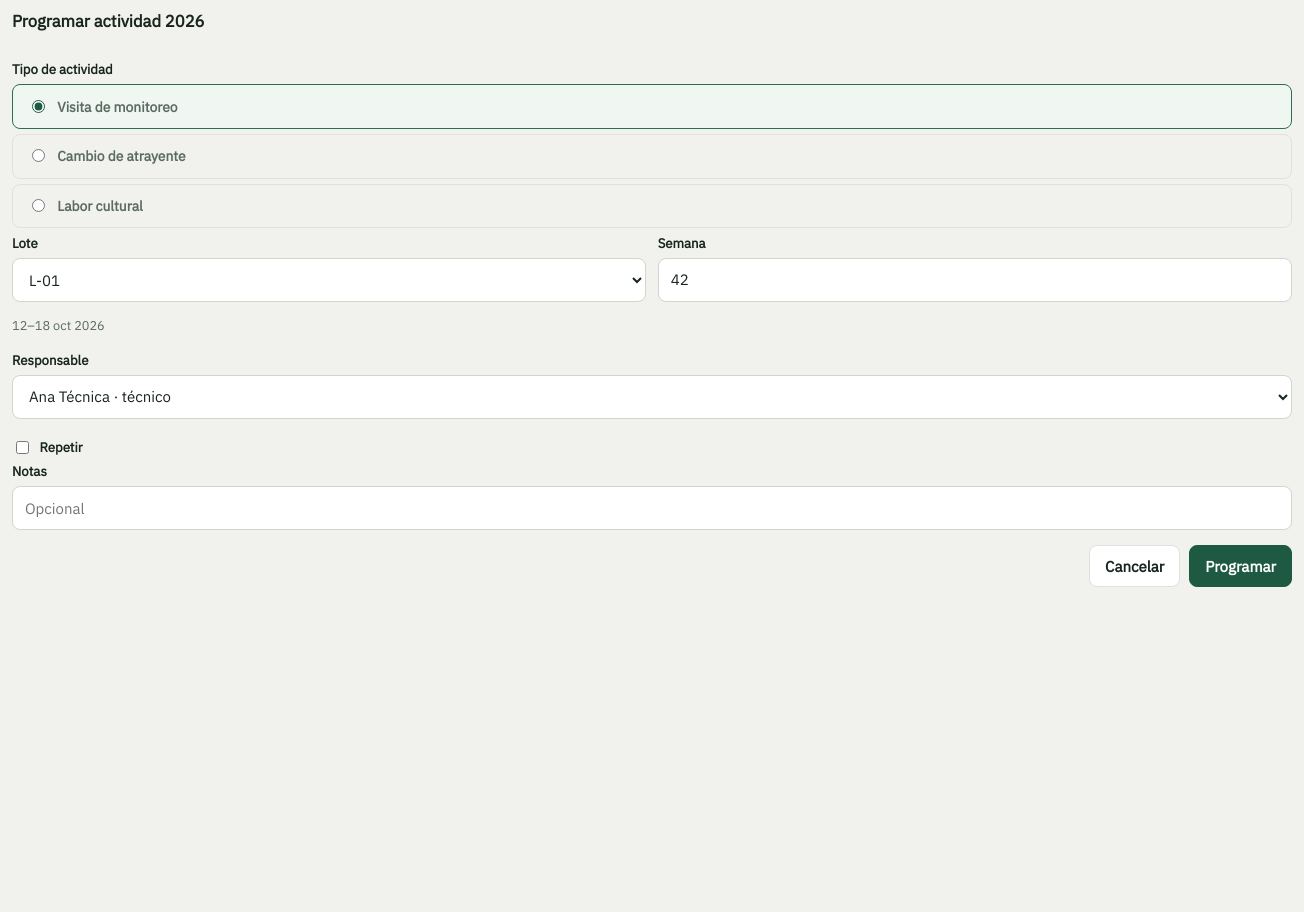
FormularioActividad › muestra el error de la API
The width and height of the screenshot is (1304, 912).
Click the button "Programar": {"x": 1241, "y": 566} [1189,545,1292,587]
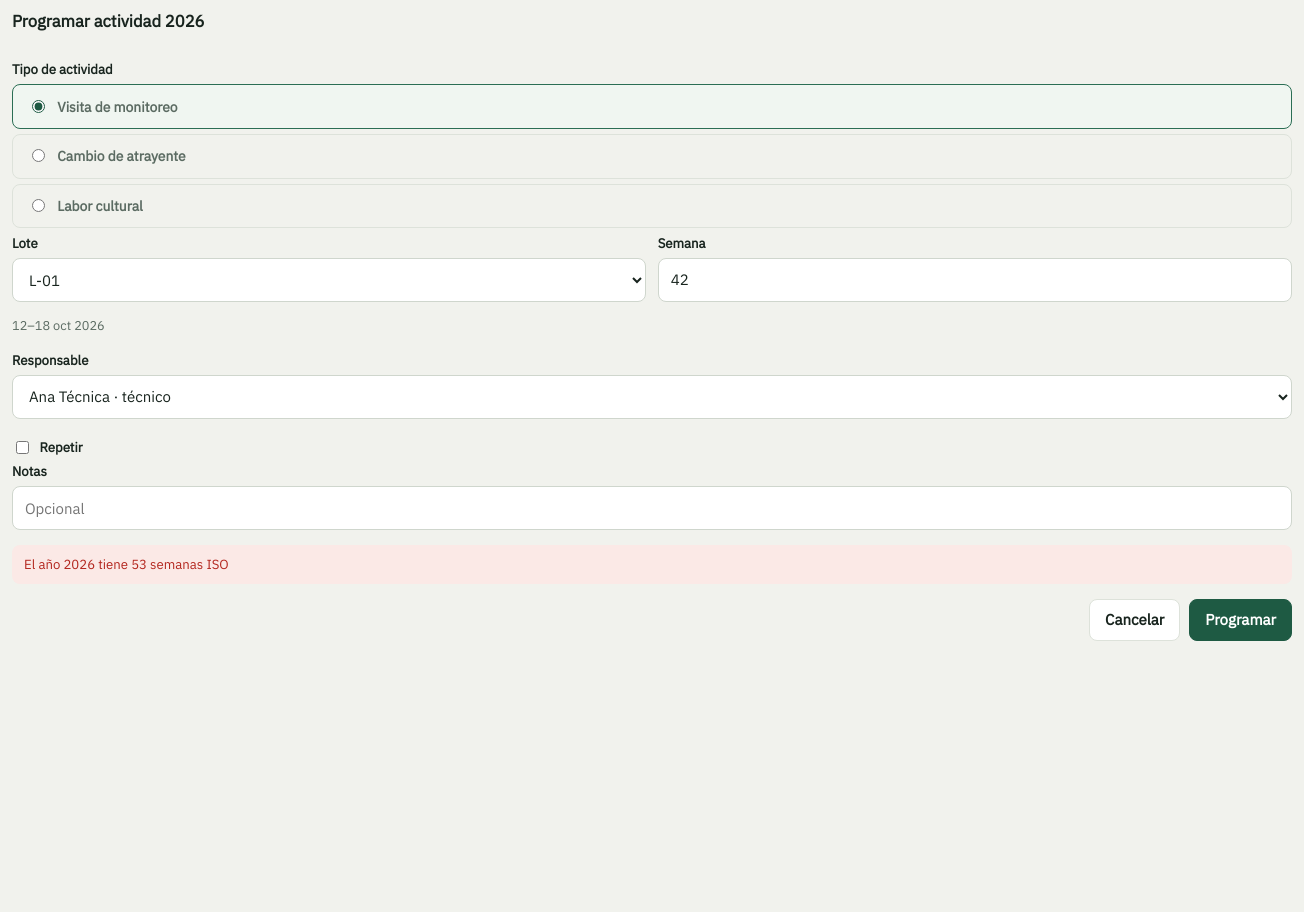
Expected: the message reads "El año 2026 tiene 53 semanas ISO", [24,555,229,573]
